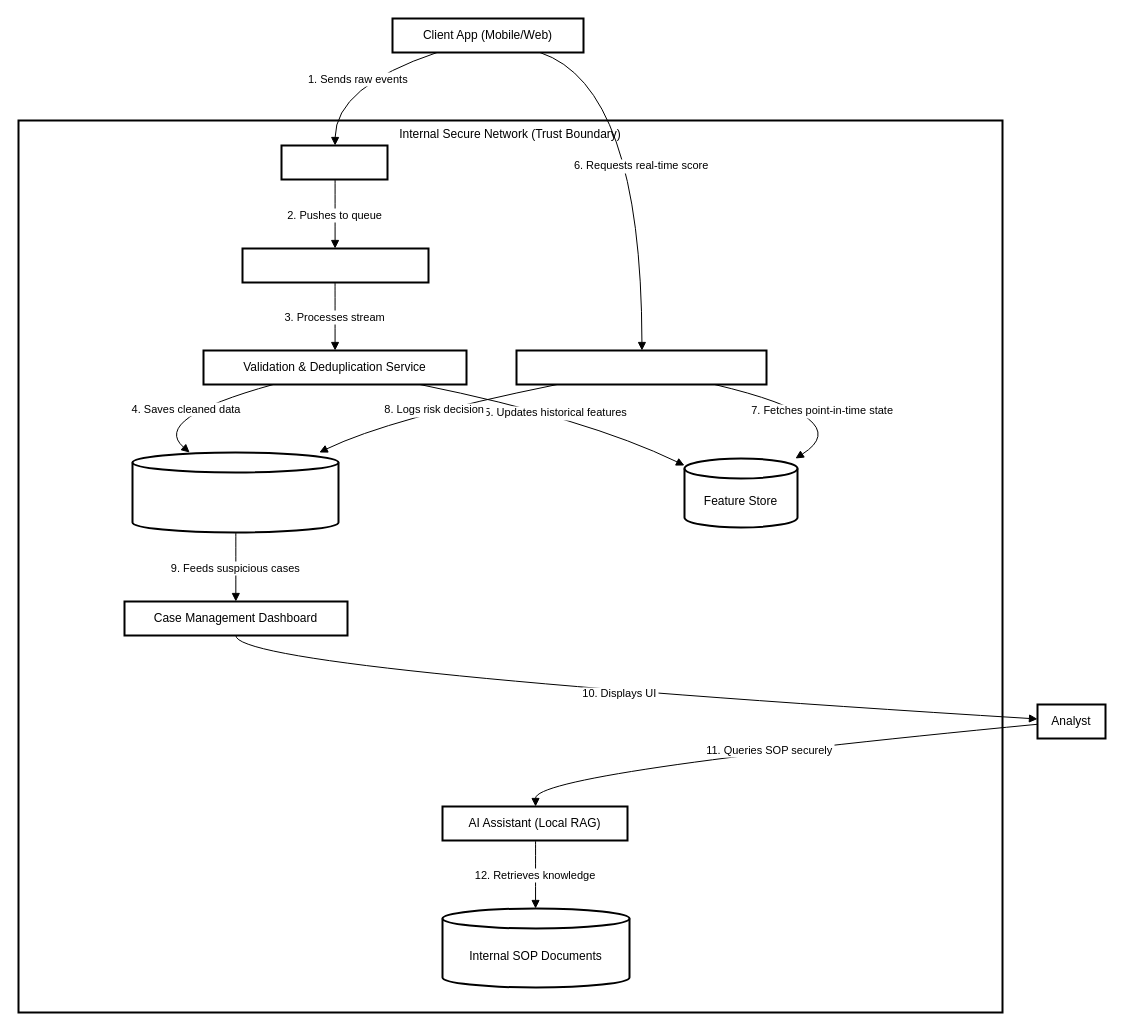
The diagram is 1123 pixels wide and 1030 high, and some of its shapes have lost their labels. Here are the shapes that lost their labels. From the top down, the centre of each, then its label:
At (x=334, y=162): "Ingestion API".
At (x=335, y=265): "Message Queue (Buffer)".
At (x=641, y=367): "Risk Scoring API (Rules/Anomaly)".
At (x=235, y=492): "Relational DB (PostgreSQL)".
